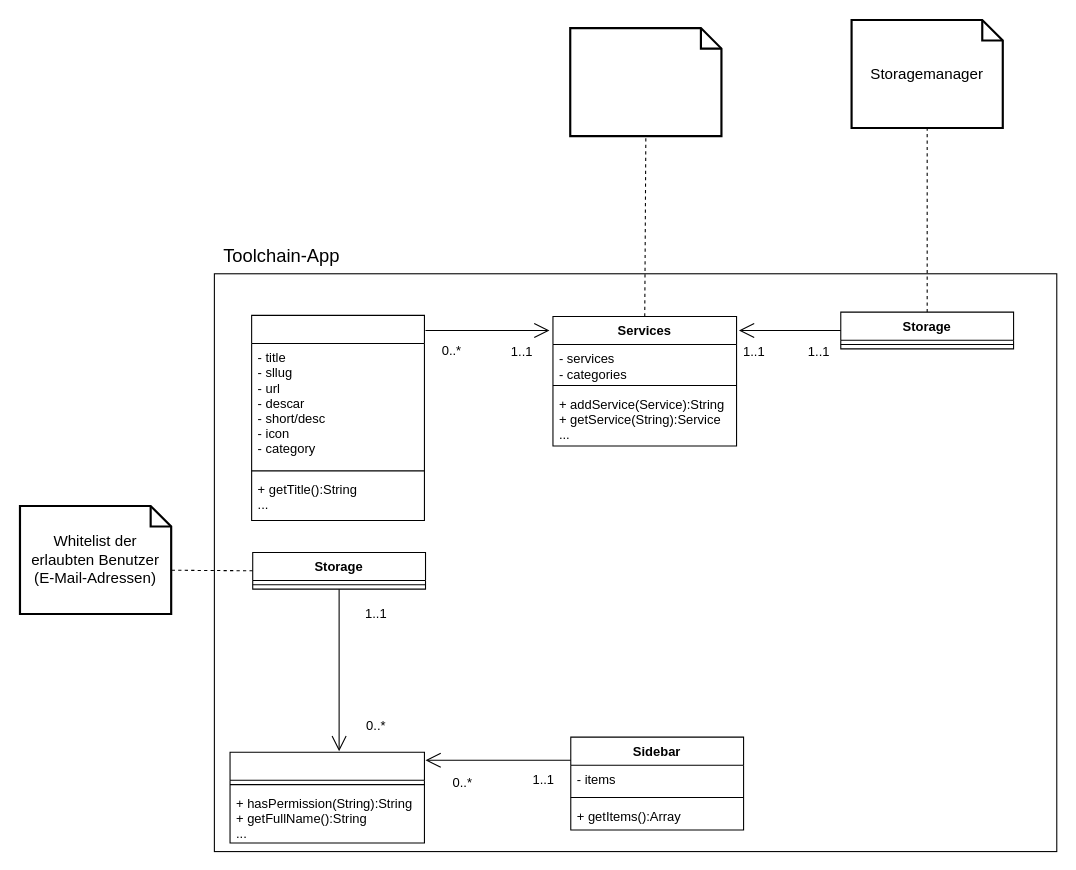
The diagram is 1076 pixels wide and 870 high, and some of its shapes have lost their labels. Each missing label, with the box of its shape:
Service: (251, 314, 424, 521)
Servicemanager: (569, 26, 722, 137)
User: (229, 751, 424, 843)
